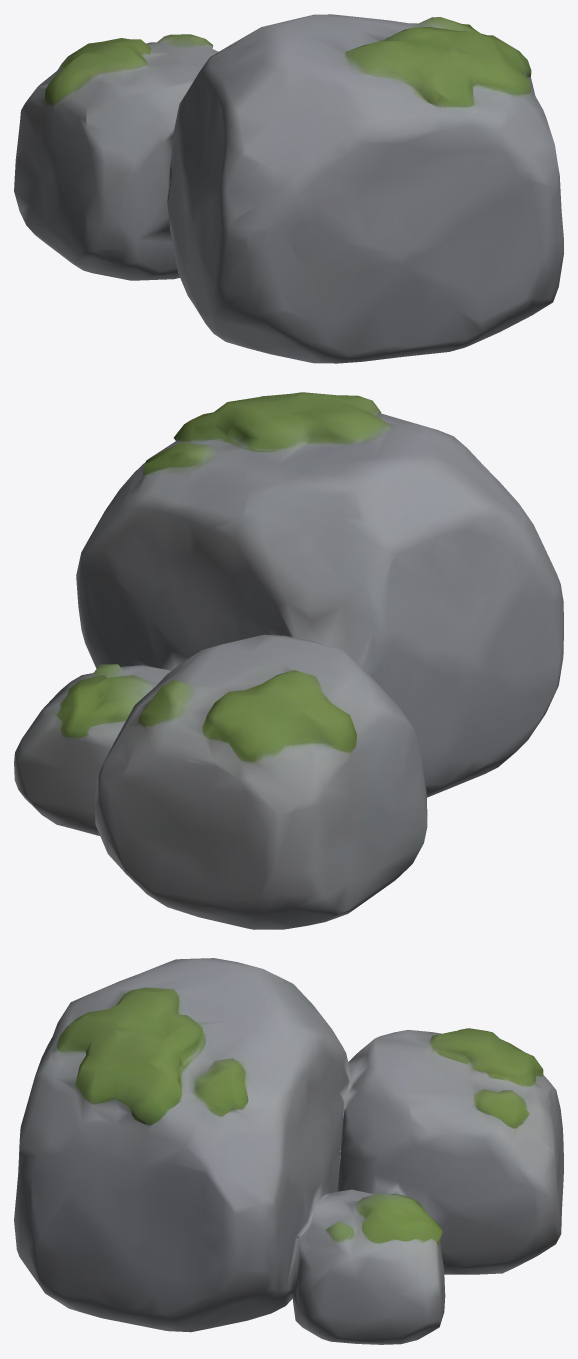
The model's file is pro_rocks-DICvk2WL.glb.
3 views of the same model, one above another, from view 1: azimuth 30°, elevation 25°; view 2: azimuth 150°, elevation 25°; view 3: azimuth 270°, elevation 25° (orthographic). The views are drawn at different scales.
Parts seen in each view (by area): view 1: tripo_node_6915b47f-6427-49e5-81f0-5b196748e028; view 2: tripo_node_6915b47f-6427-49e5-81f0-5b196748e028; view 3: tripo_node_6915b47f-6427-49e5-81f0-5b196748e028.
Part boxes in pixels (box(x1,y1,x2,y2)): tripo_node_6915b47f-6427-49e5-81f0-5b196748e028: box(14, 14, 563, 363); tripo_node_6915b47f-6427-49e5-81f0-5b196748e028: box(14, 392, 563, 929); tripo_node_6915b47f-6427-49e5-81f0-5b196748e028: box(14, 958, 563, 1344).
Size of the model in its own units: 0.7794 by 0.5794 by 1.
Materials: 1 (1 with a texture image).
